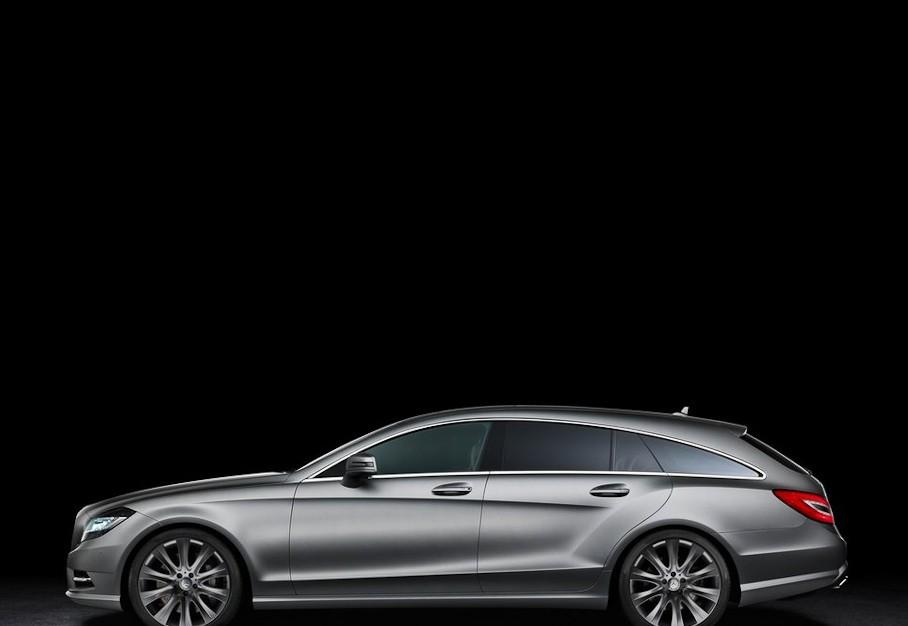Wagon: (62, 401, 849, 626)
